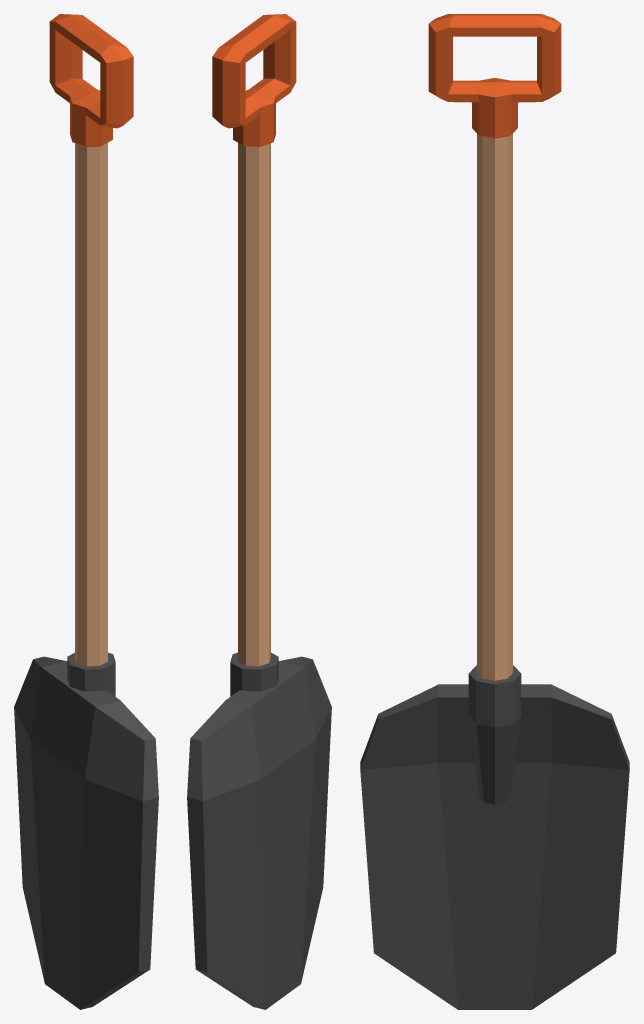
File: shovel.fbx
The picture shows the model from 3 angles, left to right: view 1: azimuth 30°, elevation 25°; view 2: azimuth 150°, elevation 25°; view 3: azimuth 270°, elevation 25°; orthographic projection. The views are drawn at different scales.
Visible parts, largest first — view 1: Cube, Cylinder; view 2: Cube, Cylinder; view 3: Cube, Cylinder.
Boxes of the visible parts, x1,y1,x2,y2 form: Cube: [14, 656, 158, 1009]; Cylinder: [49, 14, 133, 696]; Cube: [187, 656, 331, 1009]; Cylinder: [212, 14, 296, 696]; Cube: [360, 684, 629, 1009]; Cylinder: [428, 14, 561, 804].
Size of the model in its own units: 71.01 by 1169 by 285.
